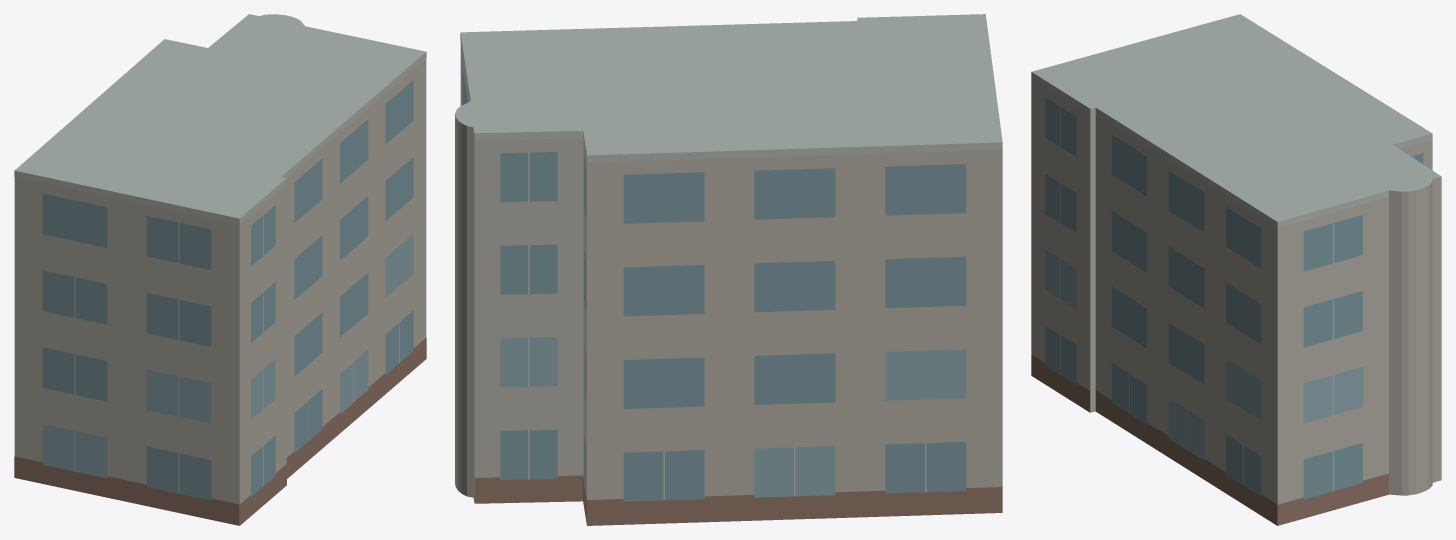
File: survey-upis-32915193.glb
The picture shows the model from 3 angles, left to right: view 1: azimuth 30°, elevation 25°; view 2: azimuth 150°, elevation 25°; view 3: azimuth 270°, elevation 25°; orthographic projection. The views are drawn at different scales.
Parts seen in each view (by area): view 1: survey-upis-32915193.tmp; view 2: survey-upis-32915193.tmp; view 3: survey-upis-32915193.tmp.
Boxes of the visible parts, <box> form: survey-upis-32915193.tmp: <box>14,14,426,525</box>; survey-upis-32915193.tmp: <box>455,14,1002,525</box>; survey-upis-32915193.tmp: <box>1031,14,1441,525</box>.
Bounding box in the file's own units: 18.1 × 12.33 × 15.09.
